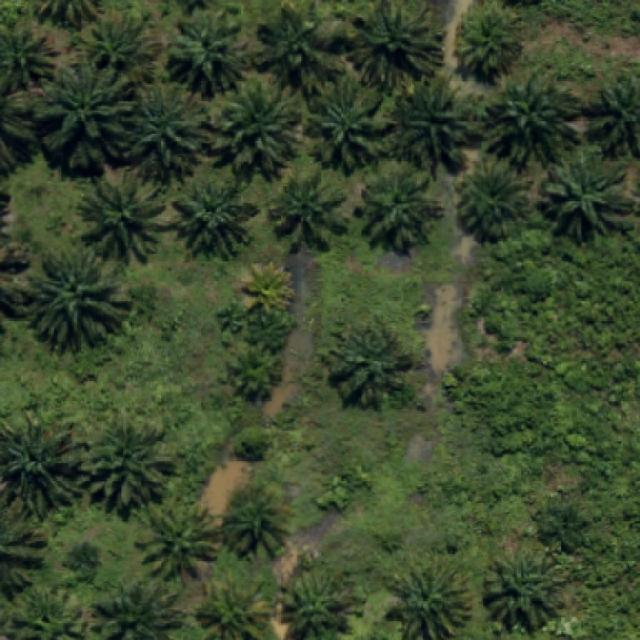Kelapa_Sawit: (26, 248, 131, 358), (40, 58, 135, 177), (86, 409, 180, 522), (538, 146, 638, 248), (208, 75, 303, 182), (484, 74, 584, 174), (72, 170, 178, 264), (257, 0, 351, 105), (348, 0, 442, 97), (390, 70, 476, 176), (321, 314, 412, 414), (304, 77, 394, 175), (126, 79, 206, 183), (137, 492, 220, 586), (481, 546, 567, 636), (176, 173, 262, 261), (360, 170, 445, 258), (172, 5, 248, 100), (270, 168, 353, 254), (391, 552, 471, 640), (83, 8, 159, 88), (458, 162, 530, 245), (218, 485, 297, 560), (456, 0, 522, 85), (196, 574, 273, 640), (228, 342, 283, 402), (241, 260, 294, 315)
